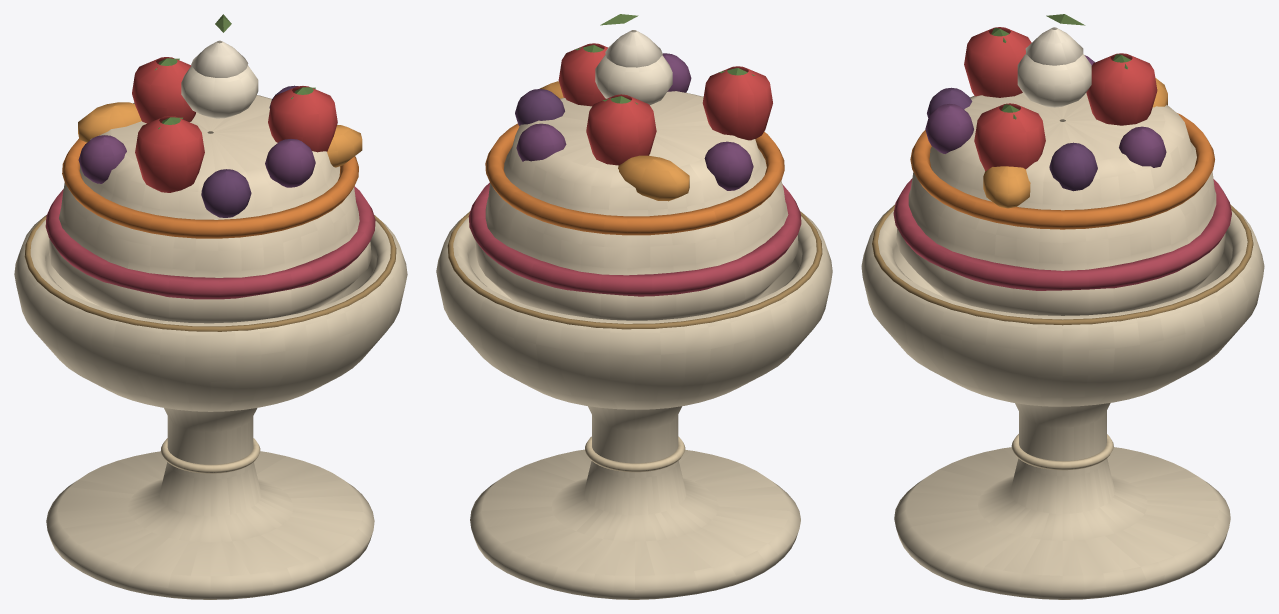
File: fruit-parfait.glb
3 renders of one model, left to right at view 1: azimuth 30°, elevation 25°; view 2: azimuth 150°, elevation 25°; view 3: azimuth 270°, elevation 25°, orthographic. The views are drawn at different scales.
Parts seen in each view (by area): view 1: Shared_warm_ivory_ceramic_goblet, Parfait_vanilla_and_fruit_layers, Parfait_lower_berry_layer, Parfait_upper_orange_layer, Parfait_strawberry_1_pointed_red_fruit, Parfait_strawberry_2_pointed_red_fruit, Shared_thin_antique_brass_lip, Parfait_strawberry_3_pointed_red_fruit, Parfait_whipped_crown_soft_base, Parfait_plump_grape_4, Parfait_plump_grape_3, Parfait_plump_grape_1 (+4 smaller); view 2: Shared_warm_ivory_ceramic_goblet, Parfait_vanilla_and_fruit_layers, Parfait_lower_berry_layer, Parfait_upper_orange_layer, Parfait_strawberry_1_pointed_red_fruit, Parfait_strawberry_3_pointed_red_fruit, Shared_thin_antique_brass_lip, Parfait_whipped_crown_soft_base, Parfait_golden_peach_1, Parfait_strawberry_2_pointed_red_fruit, Parfait_plump_grape_1, Parfait_whipped_crown_curled_peak (+4 smaller); view 3: Shared_warm_ivory_ceramic_goblet, Parfait_vanilla_and_fruit_layers, Parfait_lower_berry_layer, Parfait_upper_orange_layer, Parfait_strawberry_3_pointed_red_fruit, Parfait_strawberry_2_pointed_red_fruit, Parfait_strawberry_1_pointed_red_fruit, Shared_thin_antique_brass_lip, Parfait_whipped_crown_soft_base, Parfait_plump_grape_3, Parfait_plump_grape_2, Parfait_golden_peach_2 (+4 smaller).
Boxes of the visible parts, <box> form: Shared_warm_ivory_ceramic_goblet: <box>14,215,407,599</box>; Parfait_vanilla_and_fruit_layers: <box>49,95,371,323</box>; Parfait_lower_berry_layer: <box>45,186,375,299</box>; Parfait_upper_orange_layer: <box>62,138,358,238</box>; Parfait_strawberry_1_pointed_red_fruit: <box>135,116,204,192</box>; Parfait_strawberry_2_pointed_red_fruit: <box>268,86,337,152</box>; Shared_thin_antique_brass_lip: <box>24,215,396,331</box>; Parfait_strawberry_3_pointed_red_fruit: <box>132,57,195,123</box>; Parfait_whipped_crown_soft_base: <box>181,65,258,118</box>; Parfait_plump_grape_4: <box>201,169,251,217</box>; Parfait_plump_grape_3: <box>265,139,315,187</box>; Parfait_plump_grape_1: <box>78,135,126,183</box>; Shared_warm_ivory_ceramic_goblet: <box>436,211,832,599</box>; Parfait_vanilla_and_fruit_layers: <box>475,91,798,320</box>; Parfait_lower_berry_layer: <box>468,182,801,296</box>; Parfait_upper_orange_layer: <box>485,123,784,235</box>; Parfait_strawberry_1_pointed_red_fruit: <box>702,66,772,140</box>; Parfait_strawberry_3_pointed_red_fruit: <box>586,94,656,165</box>; Shared_thin_antique_brass_lip: <box>447,211,822,329</box>; Parfait_whipped_crown_soft_base: <box>595,54,672,104</box>; Parfait_golden_peach_1: <box>618,155,689,201</box>; Parfait_strawberry_2_pointed_red_fruit: <box>558,43,607,106</box>; Parfait_plump_grape_1: <box>704,141,753,190</box>; Parfait_whipped_crown_curled_peak: <box>605,30,662,67</box>; Shared_warm_ivory_ceramic_goblet: <box>861,207,1264,599</box>; Parfait_vanilla_and_fruit_layers: <box>896,93,1225,315</box>; Parfait_lower_berry_layer: <box>893,178,1231,290</box>; Parfait_upper_orange_layer: <box>910,113,1214,229</box>; Parfait_strawberry_3_pointed_red_fruit: <box>1086,53,1157,125</box>; Parfait_strawberry_2_pointed_red_fruit: <box>974,103,1045,171</box>; Parfait_strawberry_1_pointed_red_fruit: <box>964,27,1031,97</box>; Shared_thin_antique_brass_lip: <box>872,204,1253,325</box>; Parfait_whipped_crown_soft_base: <box>1017,54,1091,107</box>; Parfait_plump_grape_3: <box>925,104,973,153</box>; Parfait_plump_grape_2: <box>1049,142,1097,191</box>; Parfait_golden_peach_2: <box>983,166,1030,208</box>.
Size of the model in its own units: 0.788 by 1.15 by 0.788.
